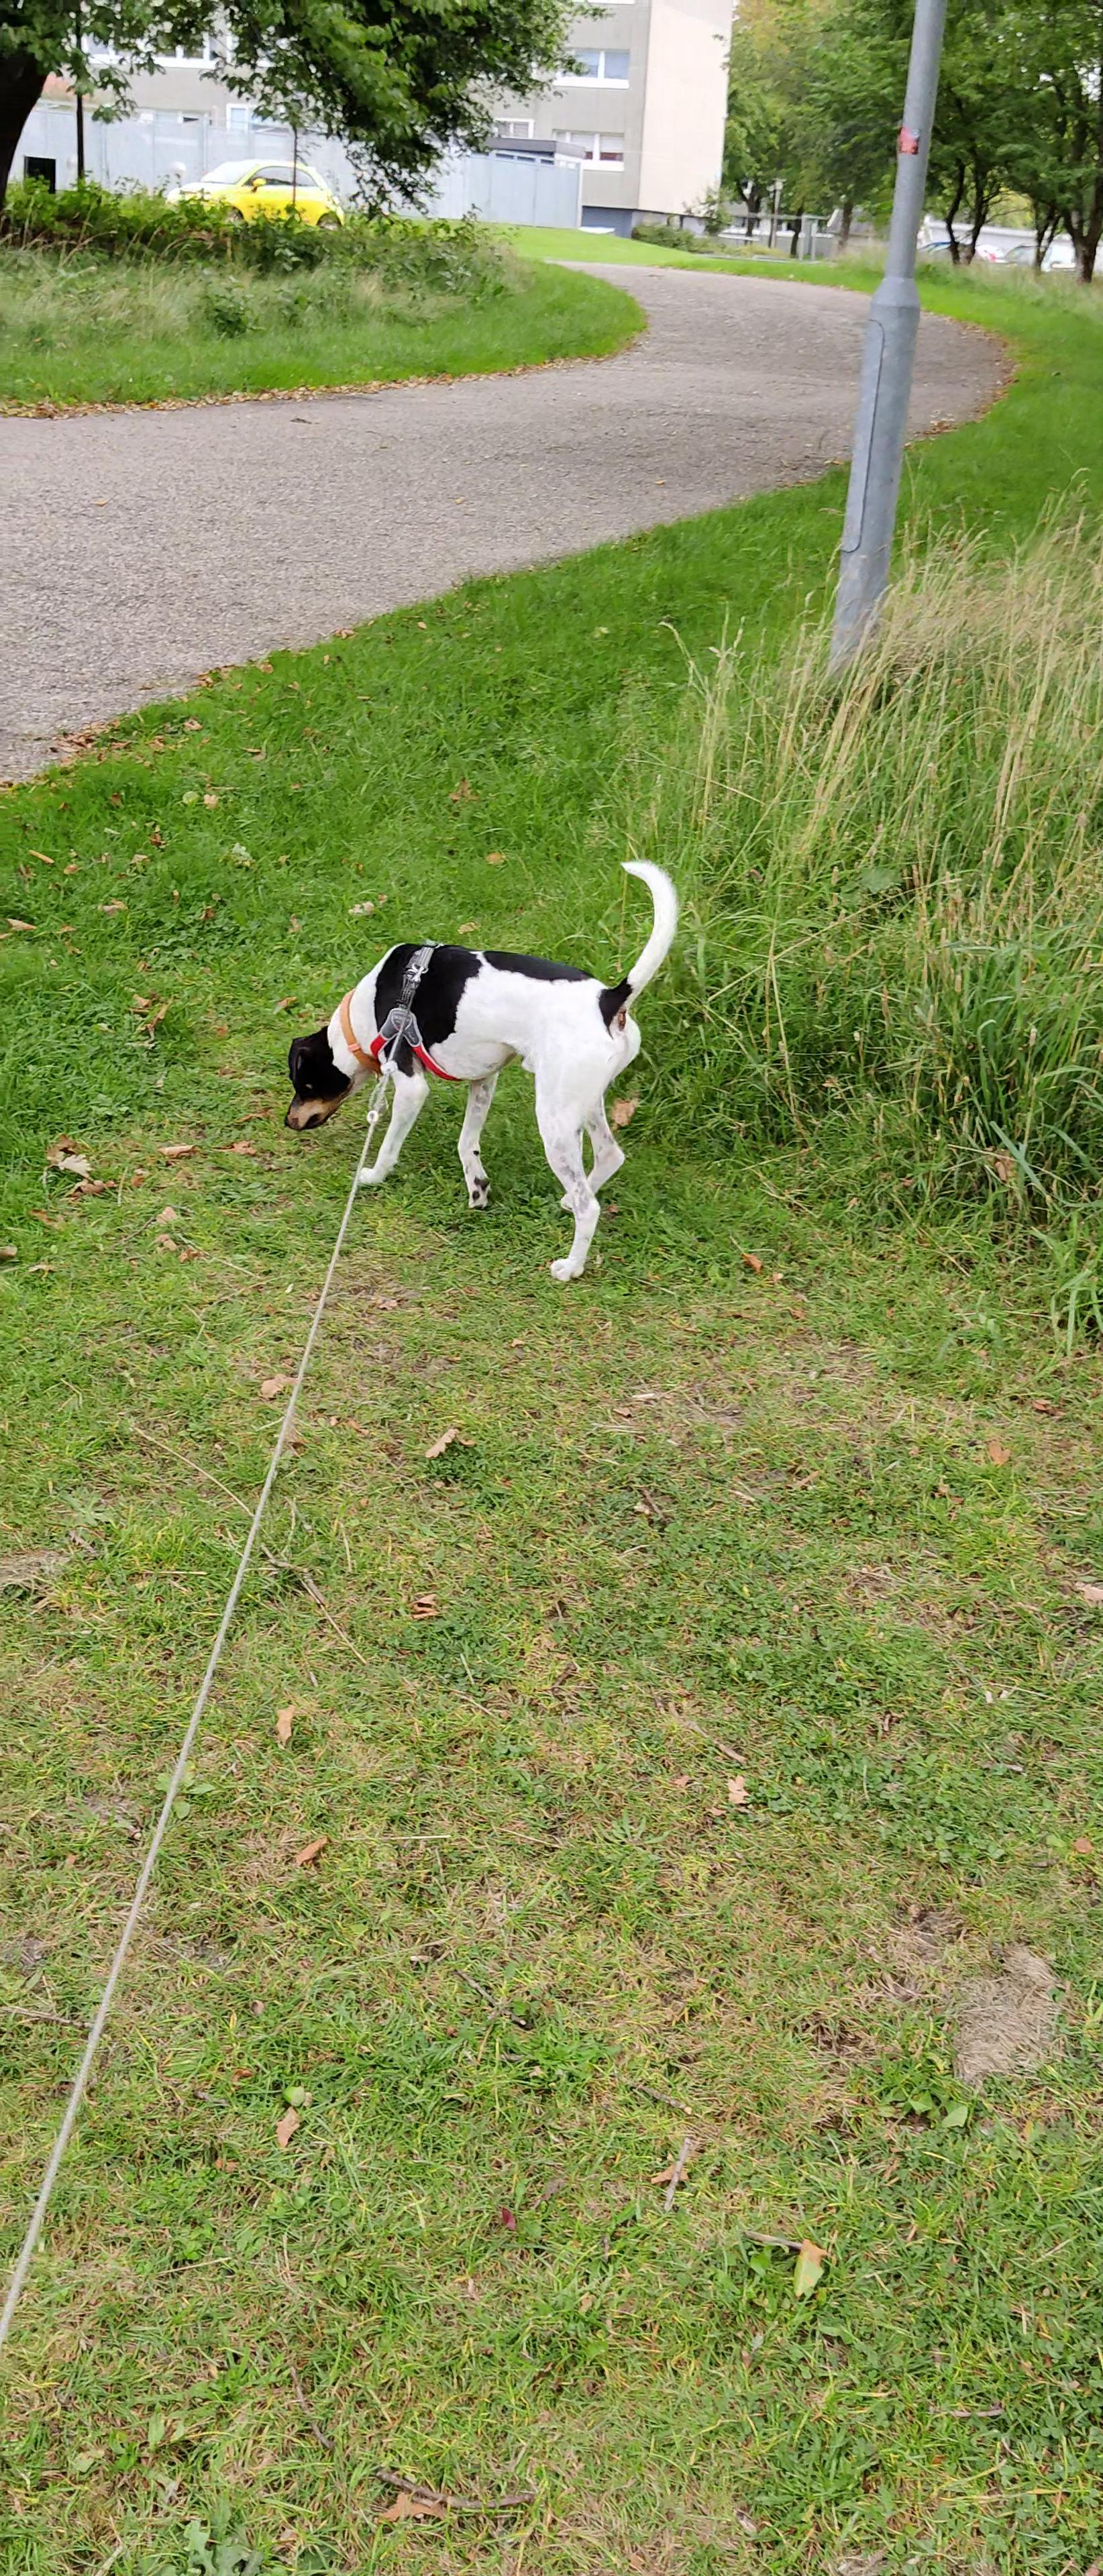Dog: (271, 849, 690, 1283)
